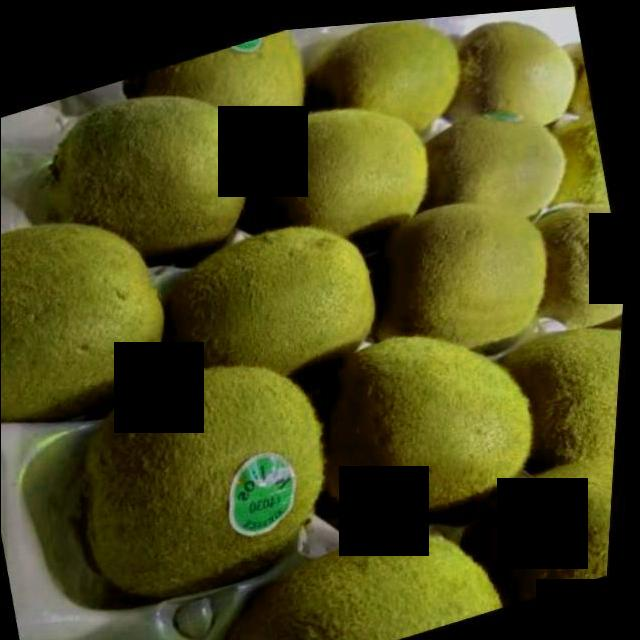kiwi: (69, 324, 360, 605), (293, 291, 564, 550), (24, 53, 280, 292), (151, 197, 398, 413), (352, 168, 575, 380), (2, 176, 190, 425), (203, 499, 517, 640), (234, 76, 450, 277), (463, 441, 621, 614), (495, 304, 627, 504), (419, 83, 584, 240), (293, 12, 474, 154)
